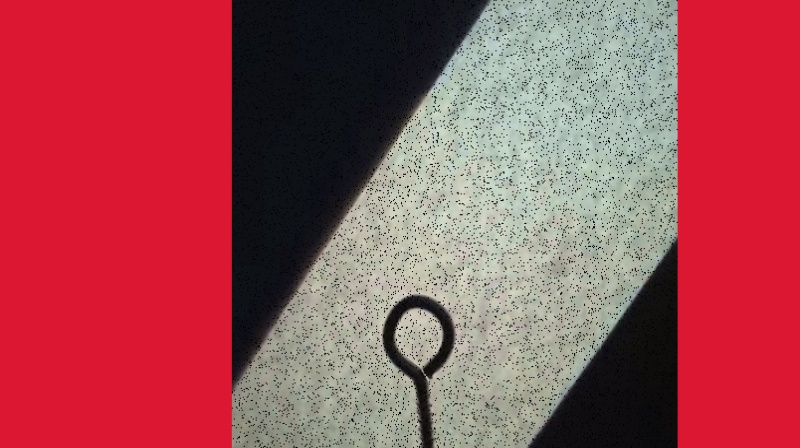O001: (379, 291, 457, 447)
